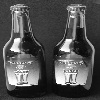beer: (1, 2, 50, 97)
